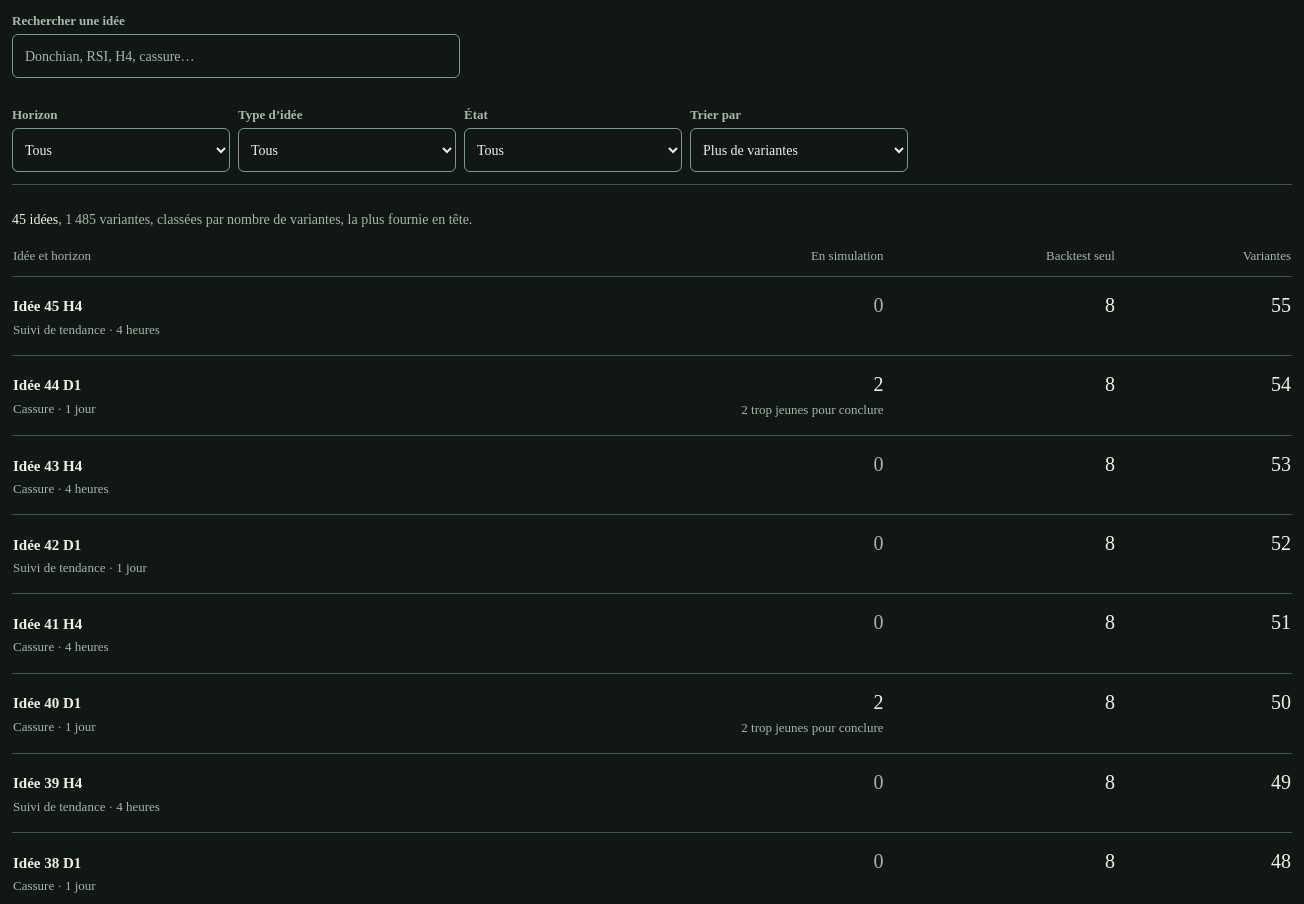
Test: LibraryIndex › filters by horizon, and writes it in the URL
Select "D1, 1 jour (22)" in the dropdown labelled "Horizon" at (121, 150), box left=12, top=128, right=230, bottom=172
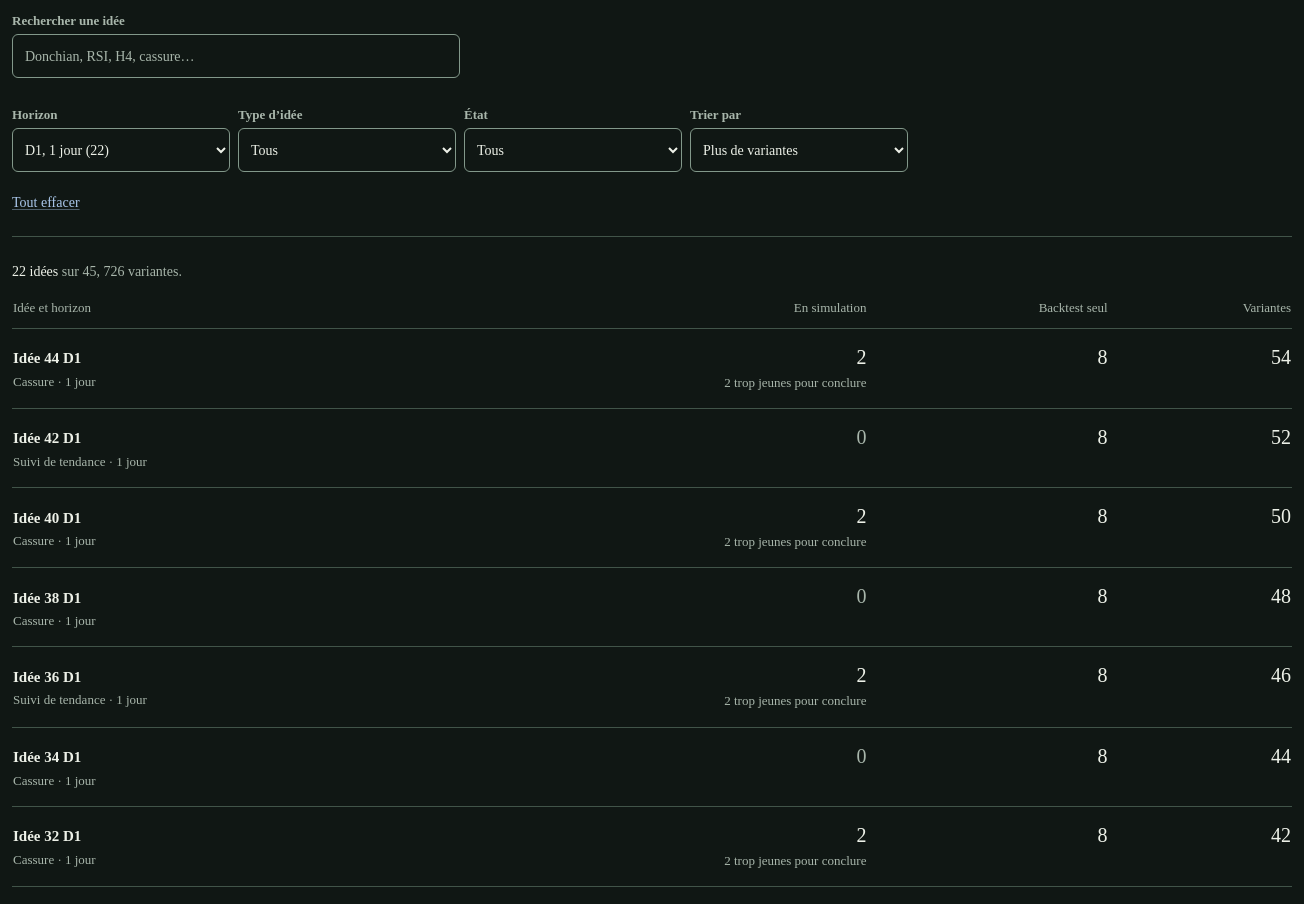
Result: the number of links "Idée 44 D1" is 22
